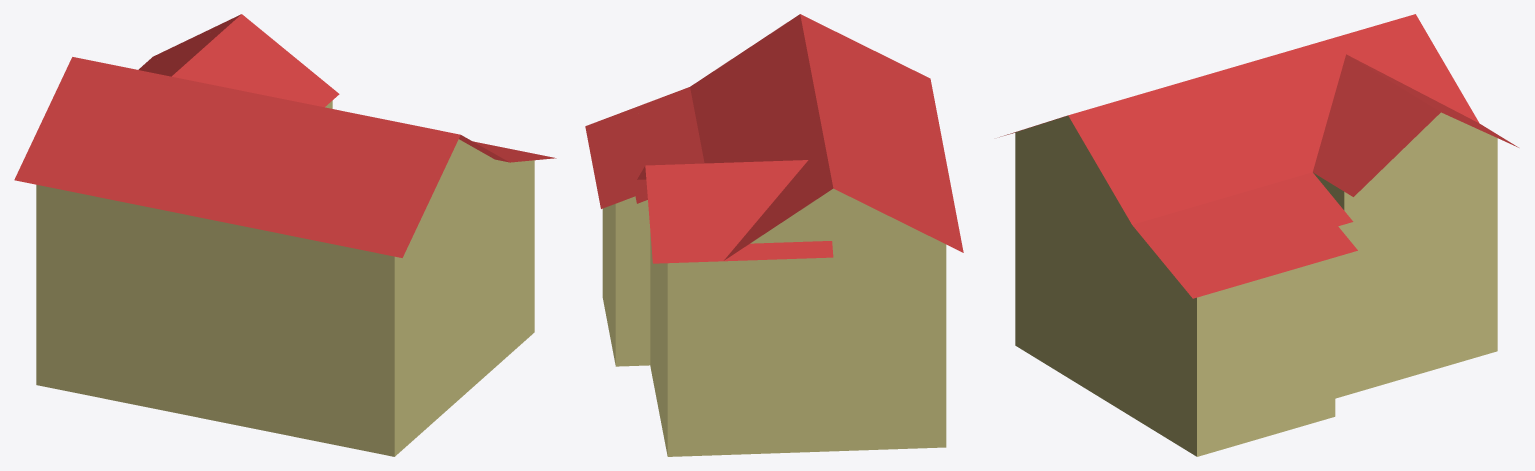
The picture shows the model from 3 angles, left to right: view 1: azimuth 30°, elevation 25°; view 2: azimuth 150°, elevation 25°; view 3: azimuth 270°, elevation 25°; orthographic projection. The views are drawn at different scales.
Bounding box in the file's own units: 24.18 × 24.07 × 13.83.
